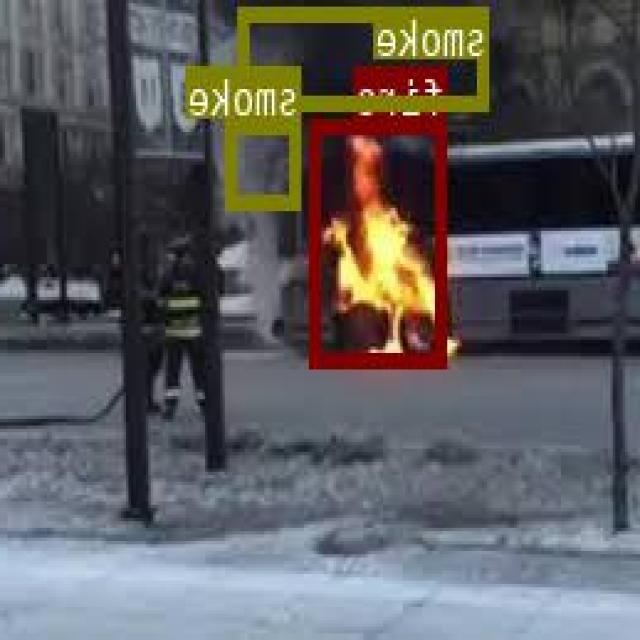fire: (313, 117, 450, 364)
smoke: (242, 5, 490, 109), (228, 117, 302, 205)
